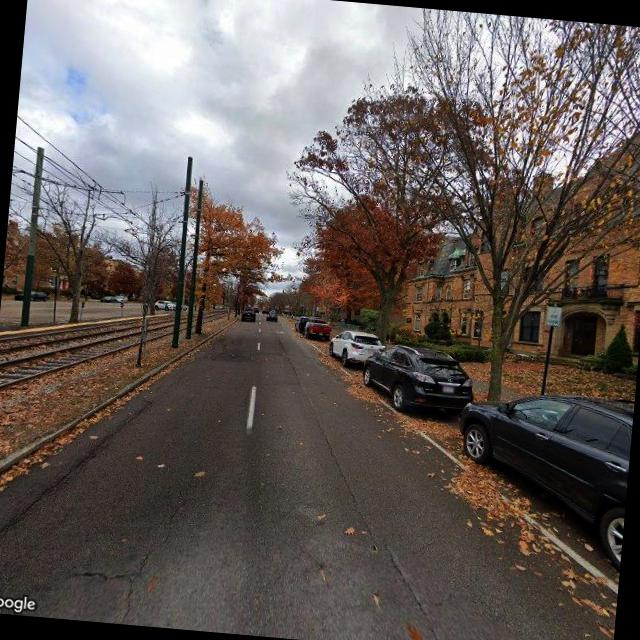crack: (108, 486, 188, 628)
